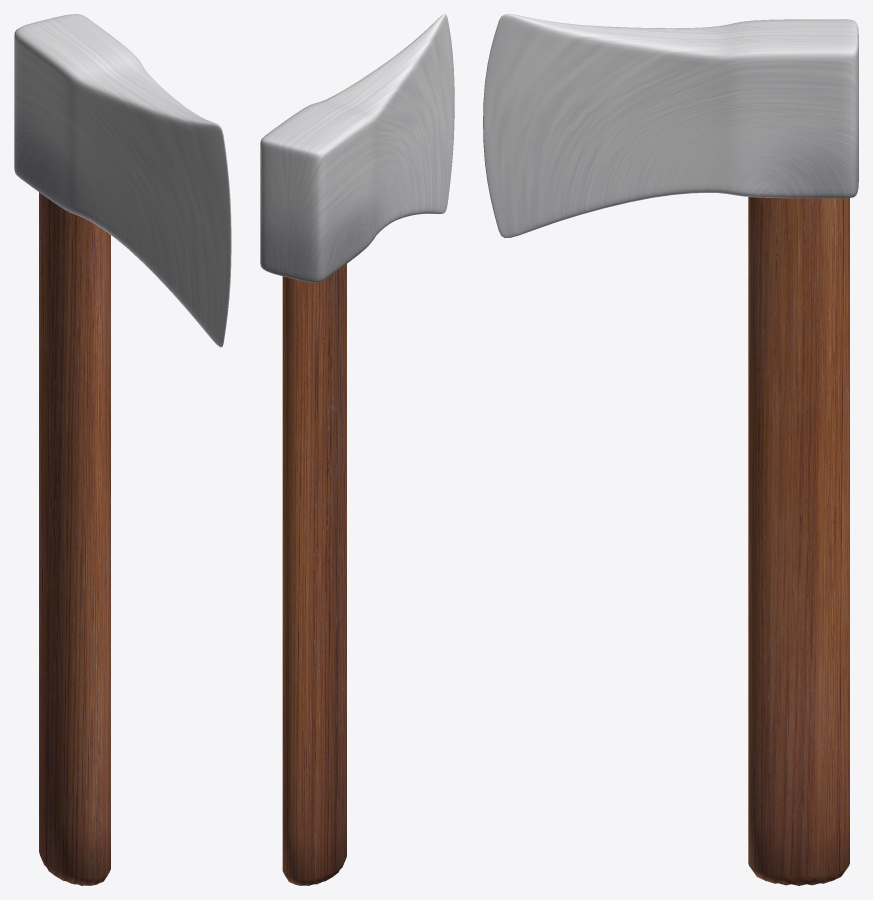
File: kapak.glb
The picture shows the model from 3 angles, left to right: view 1: azimuth 30°, elevation 25°; view 2: azimuth 150°, elevation 25°; view 3: azimuth 270°, elevation 25°; orthographic projection. The views are drawn at different scales.
Visible parts, largest first — view 1: Cylinder001_Ceramic_0_6, Box001_03 - Default_0_4; view 2: Cylinder001_Ceramic_0_6, Box001_03 - Default_0_4; view 3: Cylinder001_Ceramic_0_6, Box001_03 - Default_0_4.
Boxes of the visible parts, <box> form: Cylinder001_Ceramic_0_6: <box>39,192,110,885</box>; Box001_03 - Default_0_4: <box>14,14,231,347</box>; Cylinder001_Ceramic_0_6: <box>282,264,346,885</box>; Box001_03 - Default_0_4: <box>260,14,454,282</box>; Cylinder001_Ceramic_0_6: <box>748,197,849,885</box>; Box001_03 - Default_0_4: <box>483,14,858,237</box>.
Bounding box in the file's own units: 0.0325 × 0.3712 × 0.146.
2 materials, 2 textured.
